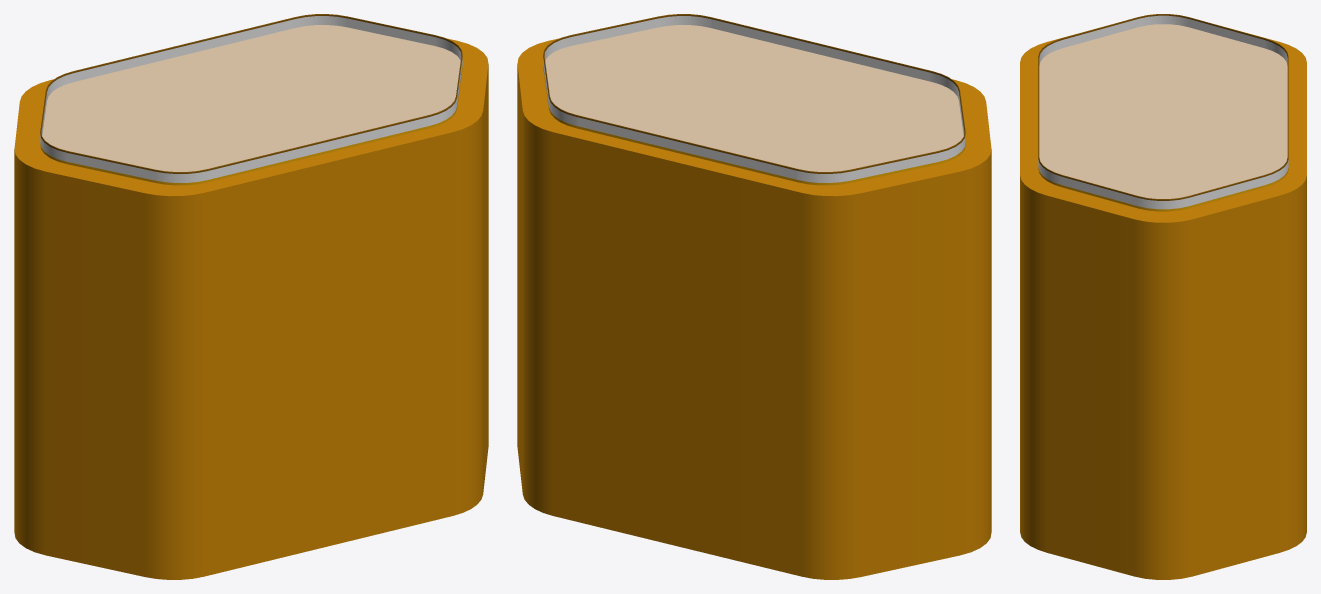
3 views of the same model, side by side, from view 1: azimuth 30°, elevation 25°; view 2: azimuth 150°, elevation 25°; view 3: azimuth 270°, elevation 25° (orthographic). The views are drawn at different scales.
Visible parts, largest first — view 1: base25, base7, polySurface1200, polySurface1199, polySurface902; view 2: base25, base7, polySurface1200, polySurface1199, polySurface902; view 3: base25, base7, polySurface1199, polySurface1200, polySurface902.
Part boxes in pixels (x1,y1,x2,y2): base25: [14, 38, 488, 579]; base7: [40, 25, 462, 185]; polySurface1200: [40, 72, 210, 182]; polySurface1199: [293, 16, 462, 126]; polySurface902: [40, 14, 462, 173]; base25: [517, 38, 991, 579]; base7: [543, 25, 965, 185]; polySurface1200: [795, 72, 965, 182]; polySurface1199: [543, 16, 712, 126]; polySurface902: [543, 14, 965, 173]; base25: [1020, 29, 1306, 579]; base7: [1038, 24, 1288, 211]; polySurface1199: [1038, 159, 1288, 209]; polySurface1200: [1039, 15, 1287, 65]; polySurface902: [1038, 14, 1288, 200].
Size of the model in its own units: 140 by 116 by 81.41.
